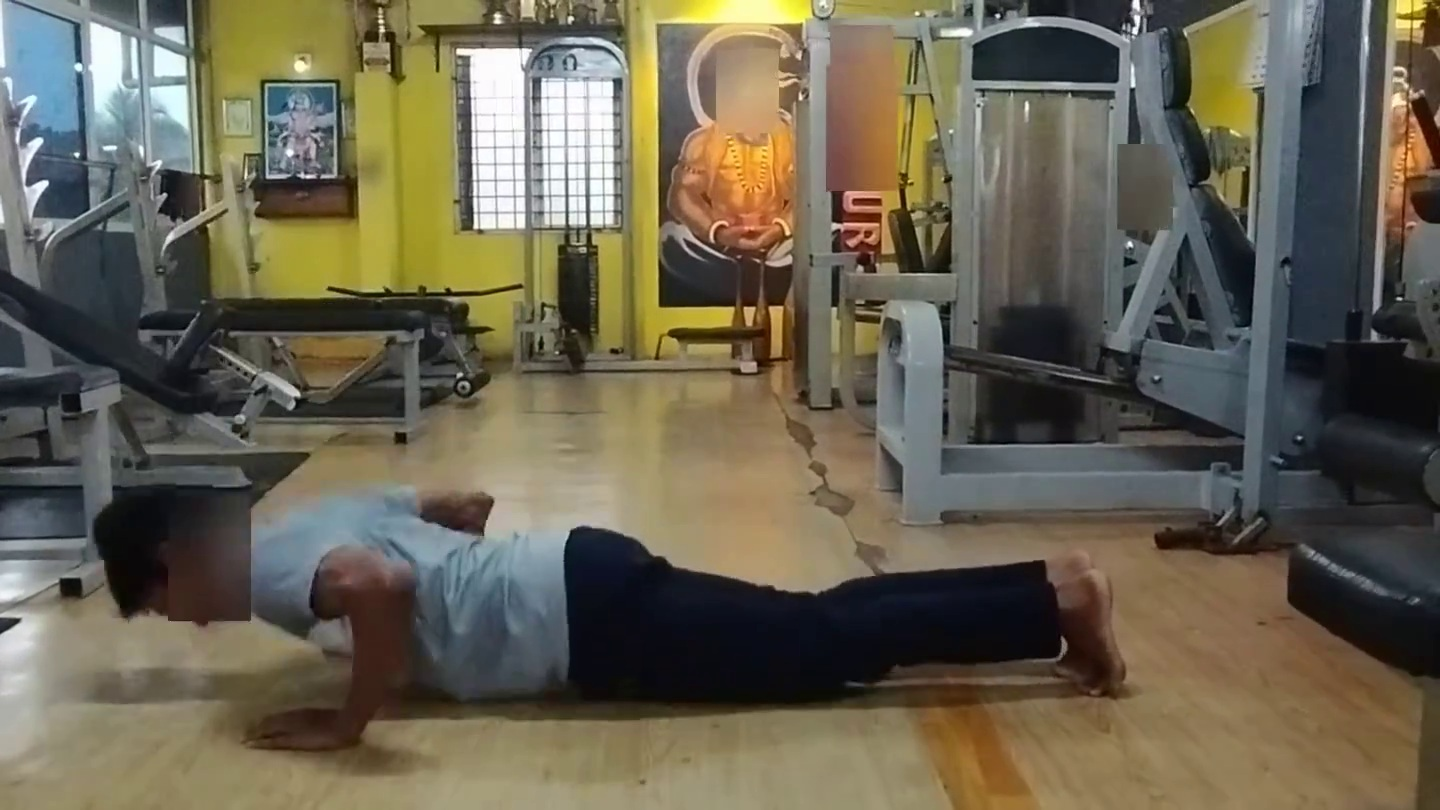push_up: (80, 439, 1190, 810)
